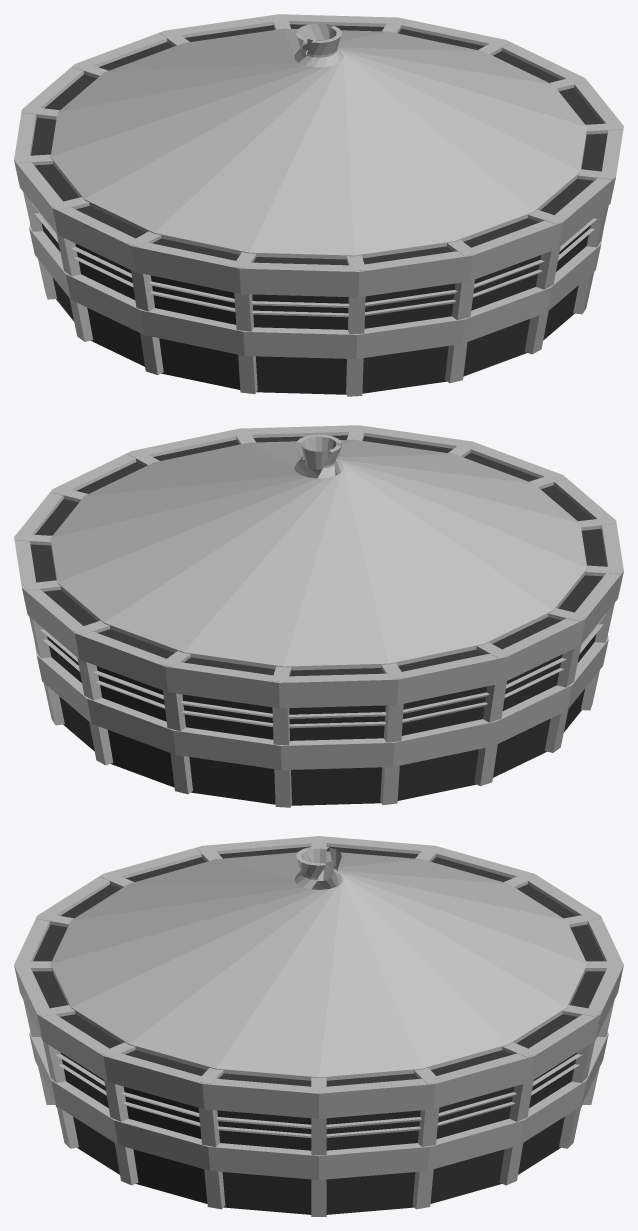
The model's file is spw-urban-bldg-13.glb.
3 renders of one model, top to bottom at view 1: azimuth 30°, elevation 25°; view 2: azimuth 150°, elevation 25°; view 3: azimuth 270°, elevation 25°, orthographic.
Parts seen in each view (by area): view 1: SPW_Urban_Bldg_13; view 2: SPW_Urban_Bldg_13; view 3: SPW_Urban_Bldg_13.
Part boxes in pixels (x1,y1,x2,y2): SPW_Urban_Bldg_13: [14, 14, 623, 396]; SPW_Urban_Bldg_13: [14, 425, 623, 807]; SPW_Urban_Bldg_13: [14, 836, 623, 1216].
Bounding box in the file's own units: 30.23 × 13.57 × 30.23.
1 material, 1 textured.
